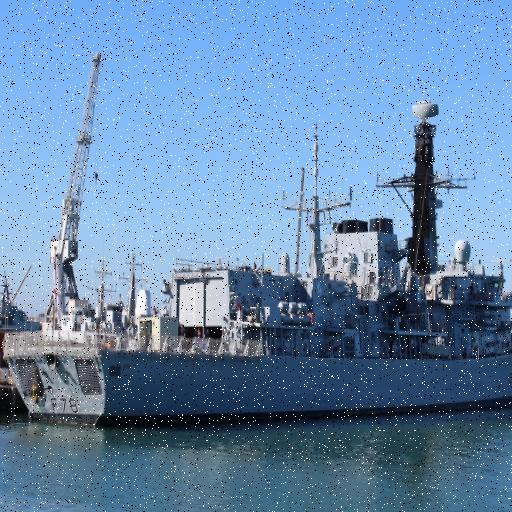Fragata: (1, 94, 512, 434)
